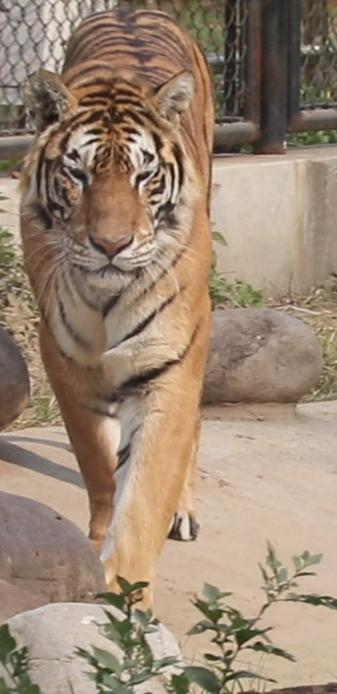tiger: (19, 10, 213, 611)
